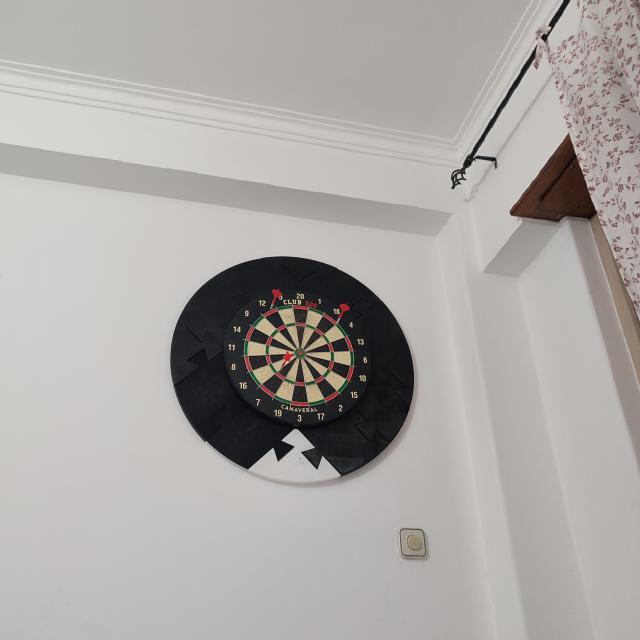dart: (335, 303, 350, 327), (278, 351, 293, 374), (278, 351, 293, 374), (335, 303, 349, 327), (270, 288, 282, 312), (270, 289, 282, 312)
